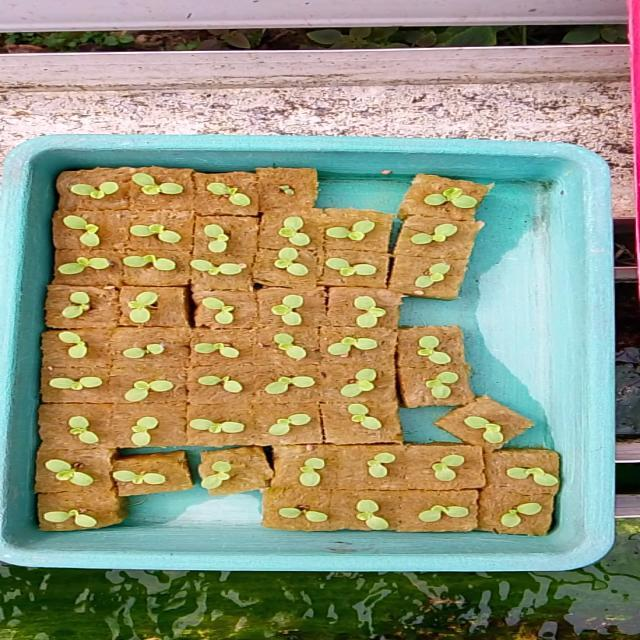Baby: (418, 495, 477, 531), (398, 328, 451, 365), (452, 415, 513, 446), (203, 292, 255, 328), (327, 219, 380, 251), (425, 371, 473, 406), (215, 186, 263, 217), (353, 295, 398, 328), (58, 331, 109, 360), (45, 459, 95, 487), (286, 456, 331, 485), (273, 216, 312, 249), (269, 413, 321, 437), (53, 376, 101, 401), (129, 416, 169, 446), (199, 455, 233, 490), (430, 454, 471, 482), (500, 501, 542, 528), (258, 248, 306, 271), (506, 466, 557, 487), (355, 499, 389, 530), (43, 510, 97, 529), (134, 174, 181, 195), (328, 337, 377, 357), (341, 369, 376, 397), (264, 375, 313, 395), (191, 259, 244, 277), (414, 263, 450, 289), (411, 224, 456, 244), (131, 224, 180, 242), (63, 294, 98, 319), (68, 416, 99, 444), (426, 187, 473, 205), (272, 294, 303, 321), (124, 255, 175, 271), (63, 257, 110, 274), (279, 507, 328, 523), (366, 453, 396, 478), (201, 368, 228, 395), (63, 215, 99, 235), (209, 421, 244, 441), (204, 225, 229, 252), (124, 343, 165, 359), (278, 336, 305, 360), (326, 258, 360, 277), (126, 471, 166, 486), (129, 292, 158, 311), (136, 380, 161, 399), (213, 342, 239, 358), (100, 181, 112, 198)
